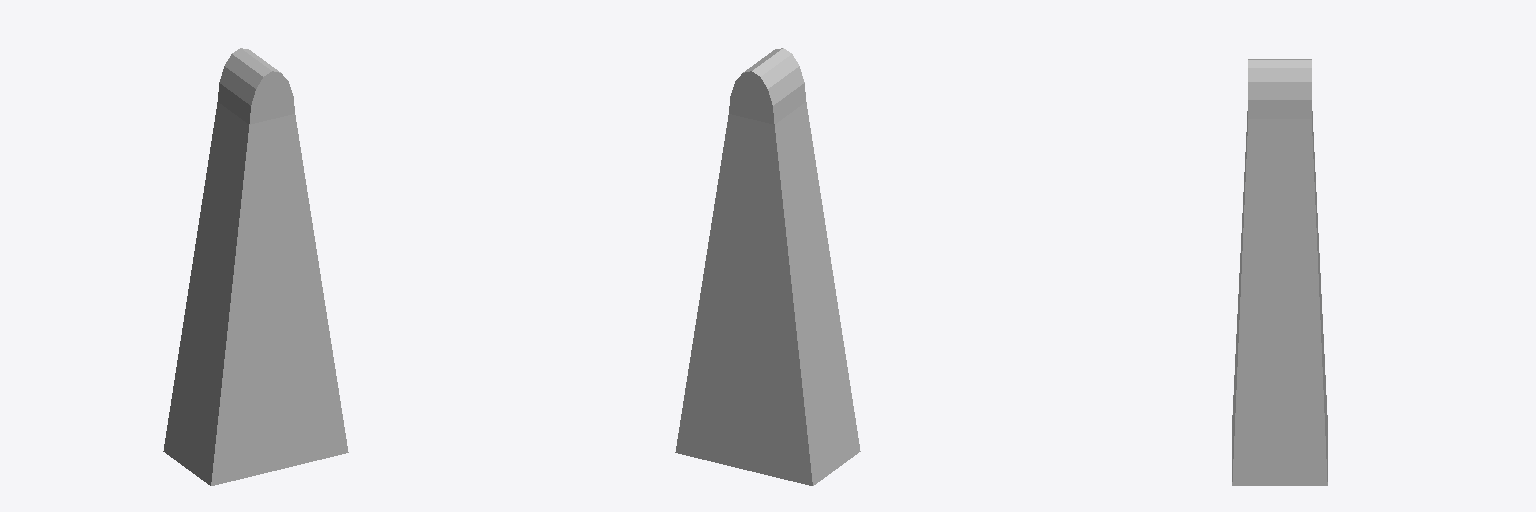
Rendered from GunMount.obj.
3 views of the same model, side by side, from view 1: azimuth 30°, elevation 25°; view 2: azimuth 150°, elevation 25°; view 3: azimuth 270°, elevation 25° (orthographic).
Visible parts, largest first — view 1: 円; view 2: 円; view 3: 円.
Part boxes in pixels (bbox=[...]): 円: bbox=[163, 48, 348, 485]; 円: bbox=[675, 48, 860, 485]; 円: bbox=[1232, 59, 1327, 485].
Size of the model in its own units: 0.15 by 0.4088 by 0.09.